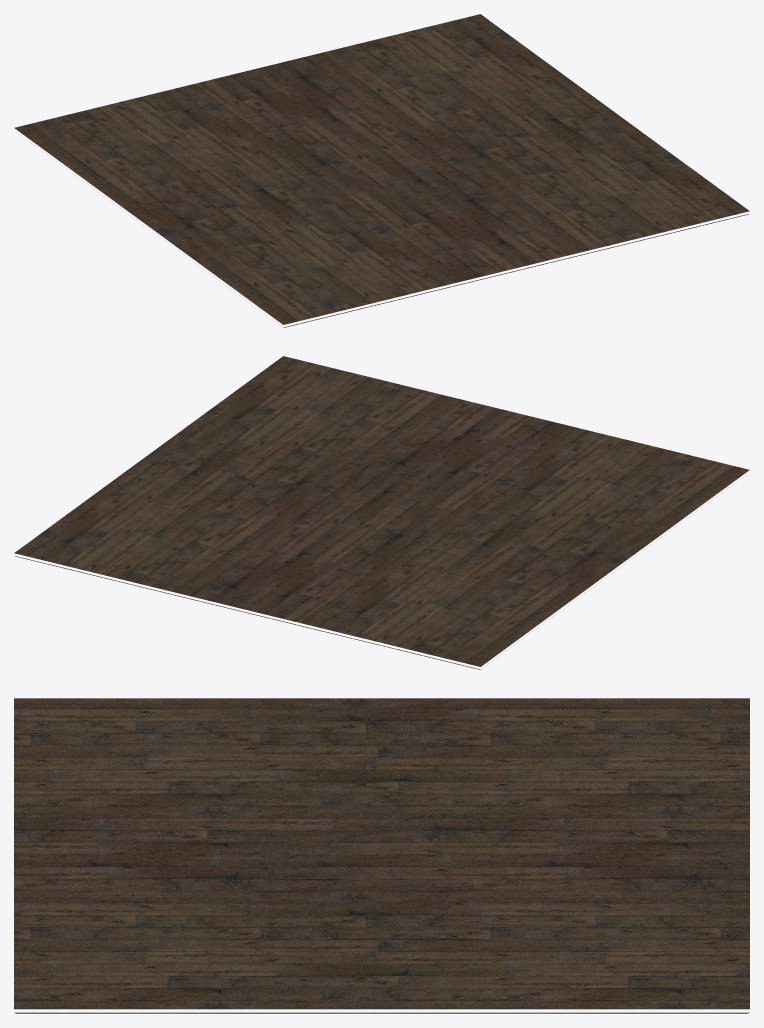
The picture shows the model from 3 angles, top to bottom: view 1: azimuth 30°, elevation 25°; view 2: azimuth 150°, elevation 25°; view 3: azimuth 270°, elevation 25°; orthographic projection. The views are drawn at different scales.
Parts seen in each view (by area): view 1: floor_1; view 2: floor_1; view 3: floor_1.
Part boxes in pixels (bbox=[...]): floor_1: bbox=[14, 14, 749, 327]; floor_1: bbox=[14, 356, 749, 669]; floor_1: bbox=[14, 698, 749, 1013].
Size of the model in its own units: 4 by 0.03 by 4.
3 materials, 3 textured.
